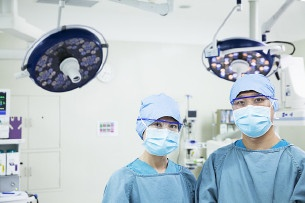Mask: (233, 95, 274, 136)
